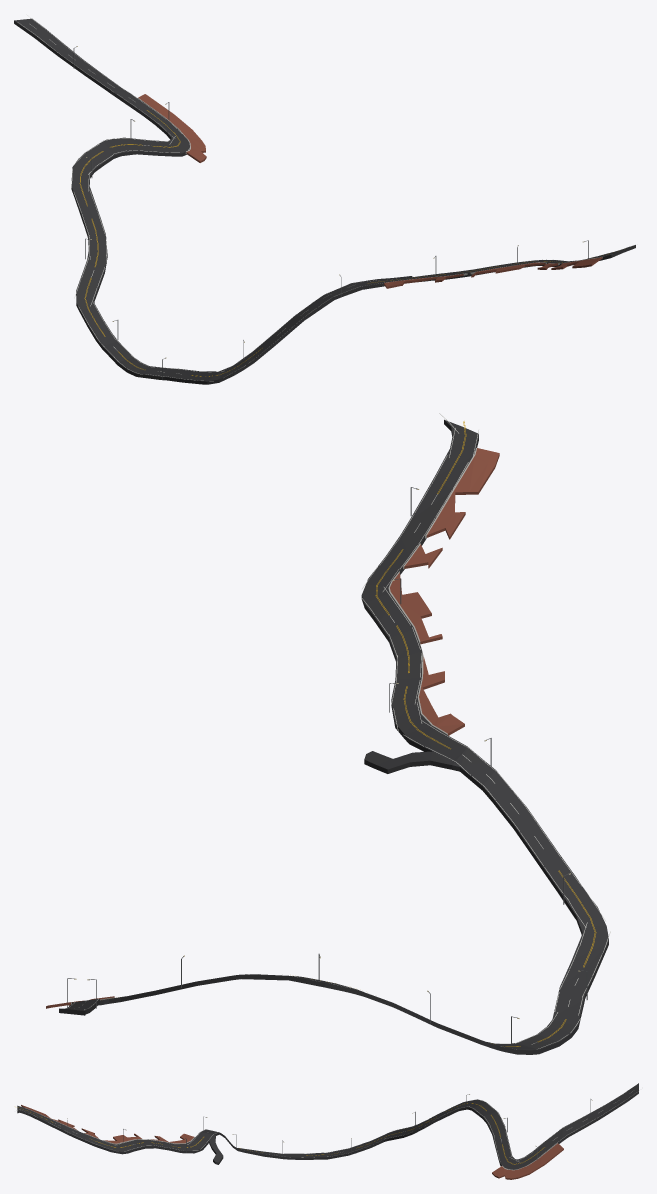
The picture shows the model from 3 angles, top to bottom: view 1: azimuth 30°, elevation 25°; view 2: azimuth 150°, elevation 25°; view 3: azimuth 270°, elevation 25°; orthographic projection. The views are drawn at different scales.
Size of the model in its own units: 118 by 77.4 by 295.
